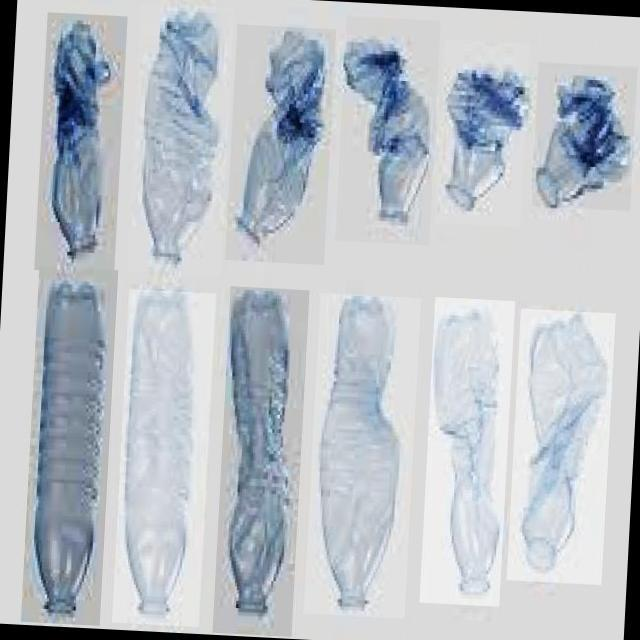defected: (301, 291, 419, 617), (111, 288, 216, 626), (212, 285, 308, 636), (506, 308, 616, 584), (420, 296, 516, 606), (126, 2, 235, 275), (223, 23, 334, 264), (334, 14, 440, 244), (34, 11, 126, 273), (434, 38, 530, 226), (532, 61, 638, 210)
good: (20, 266, 119, 626)
